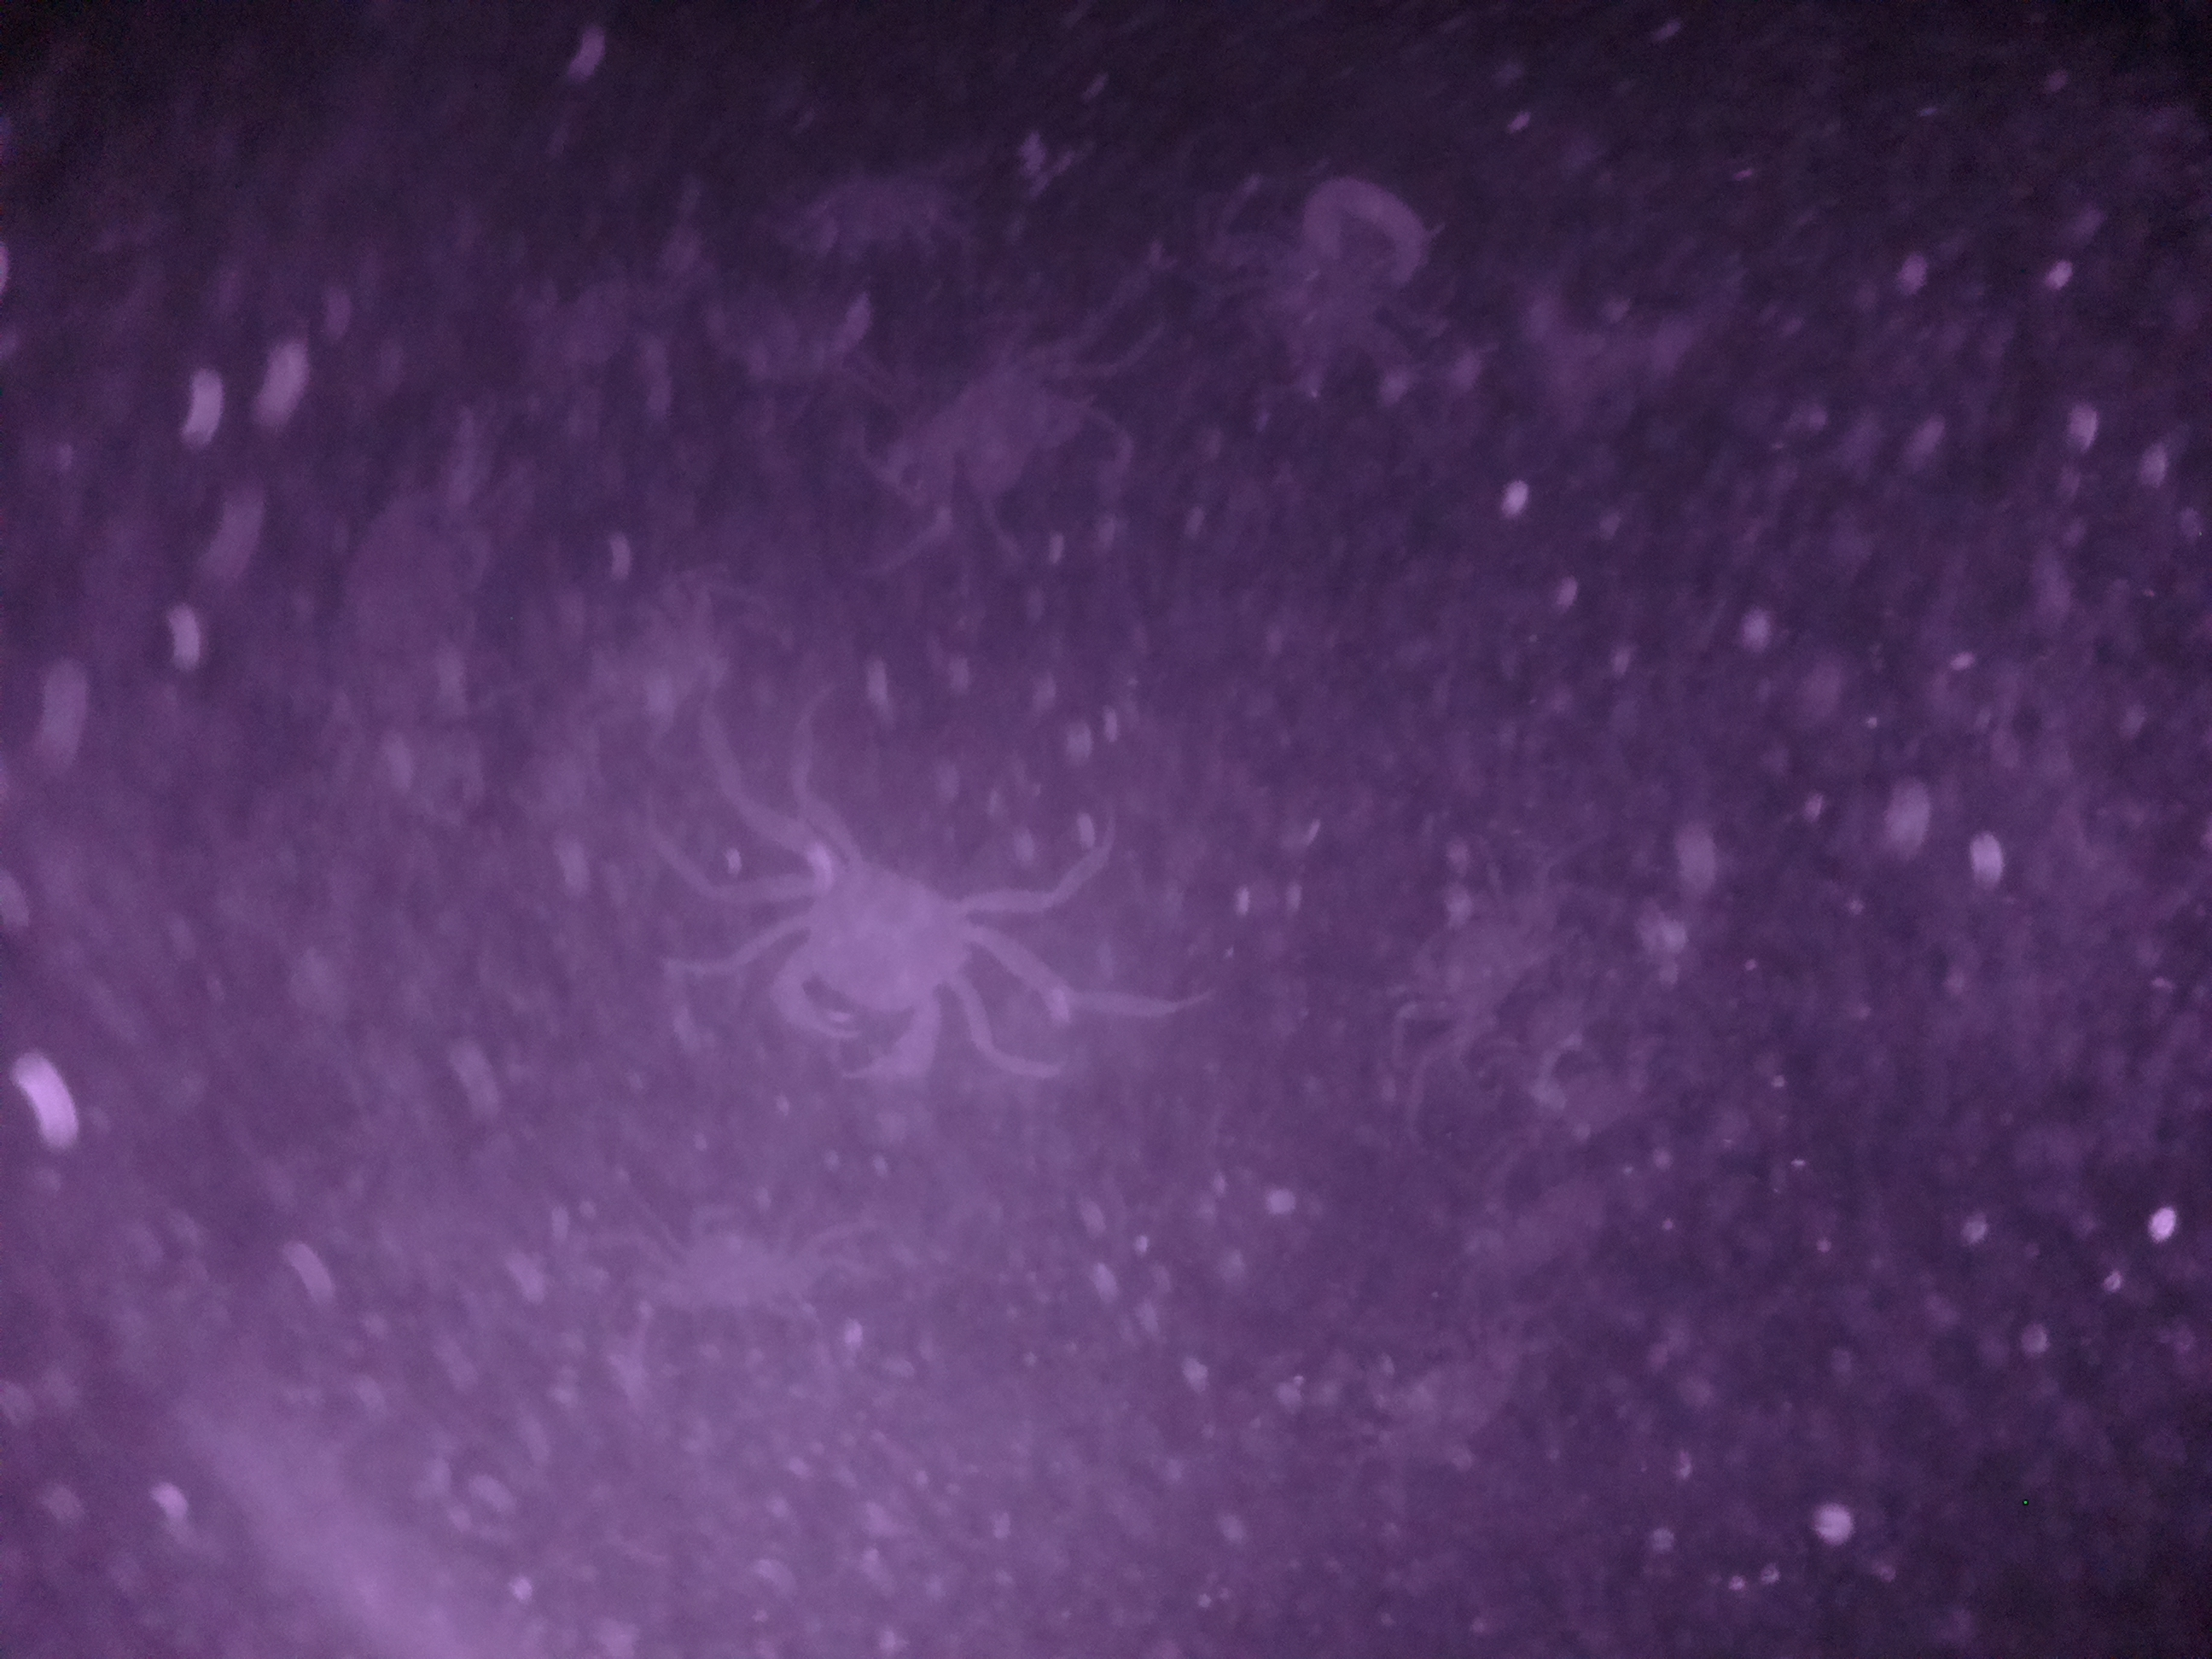Crab: (728, 814, 1021, 1100)
